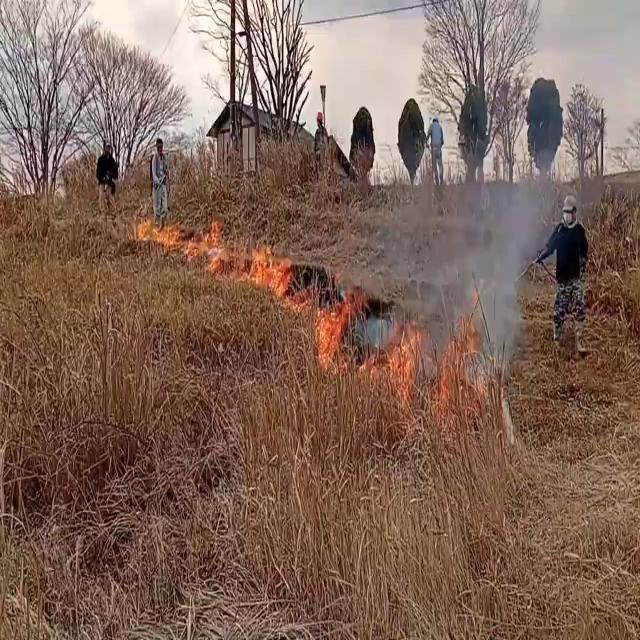Fire: (240, 234, 348, 366), (129, 202, 229, 270), (382, 313, 424, 382)
Smoke: (373, 171, 554, 349)
